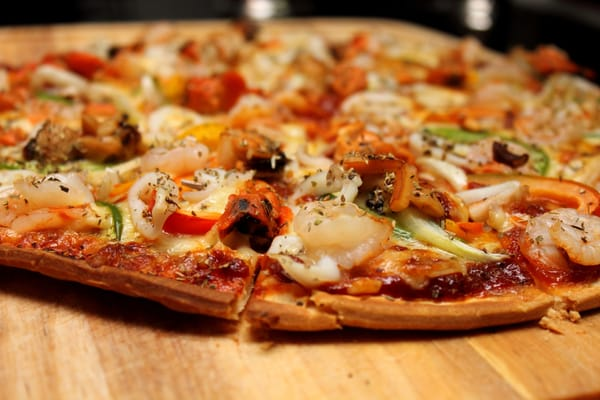sandwich: (0, 18, 600, 340)
